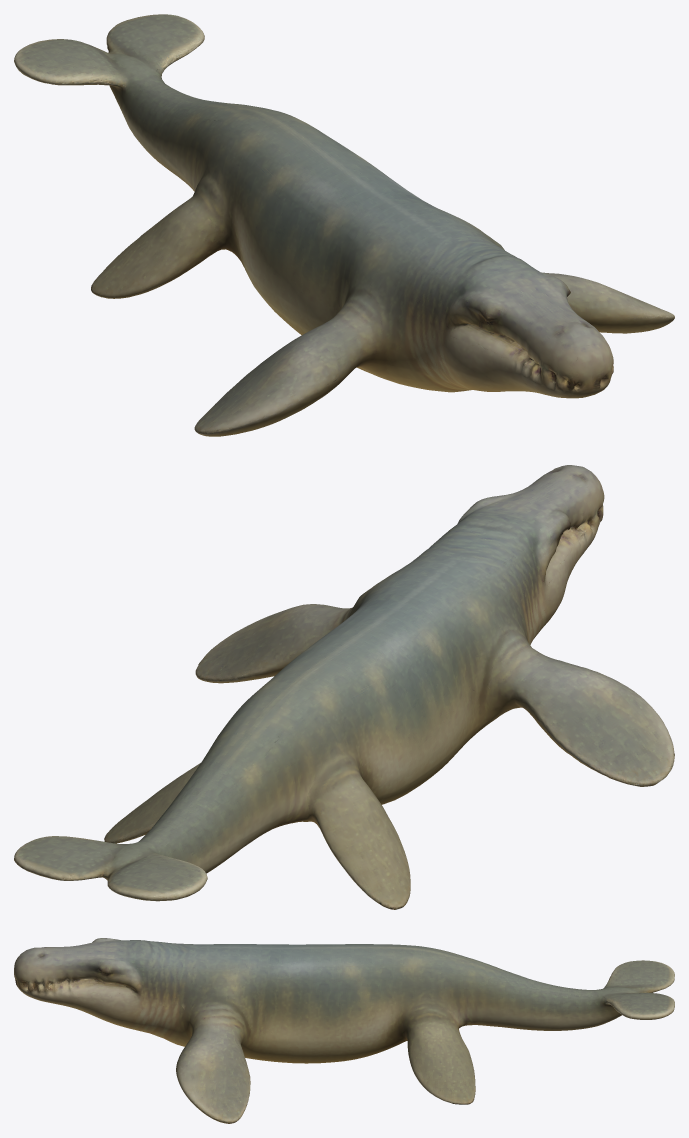
3 views of the same model, one above another, from view 1: azimuth 30°, elevation 25°; view 2: azimuth 150°, elevation 25°; view 3: azimuth 270°, elevation 25° (orthographic). The views are drawn at different scales.
Visible parts, largest first — view 1: world; view 2: world; view 3: world.
Boxes of the visible parts, <box> form: world: <box>14,14,674,436</box>; world: <box>14,465,674,909</box>; world: <box>14,938,674,1123</box>.
Bounding box in the file's own units: 2.41 × 0.8606 × 4.5.
Materials: 1 (1 with a texture image).
